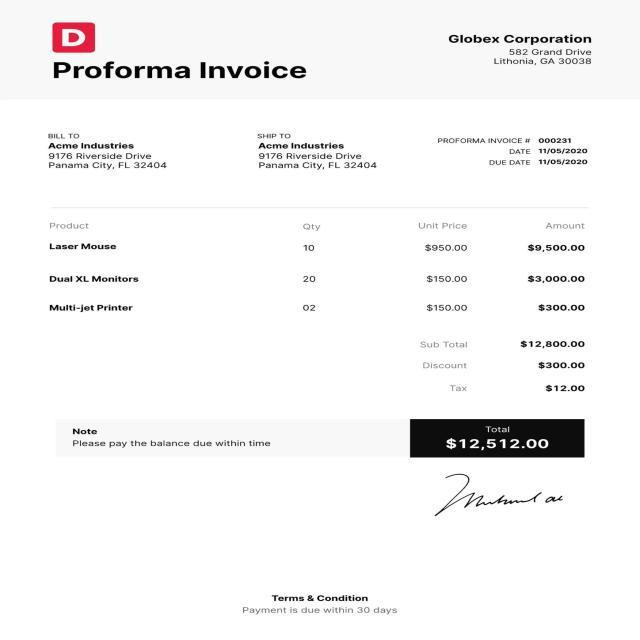ROI: (42, 213, 612, 317), (408, 331, 598, 399), (52, 57, 316, 87), (428, 468, 574, 522), (434, 133, 616, 176), (245, 127, 388, 175), (42, 128, 176, 175), (442, 28, 600, 66), (68, 426, 278, 450), (233, 593, 404, 621), (428, 422, 562, 452), (58, 29, 91, 48)
